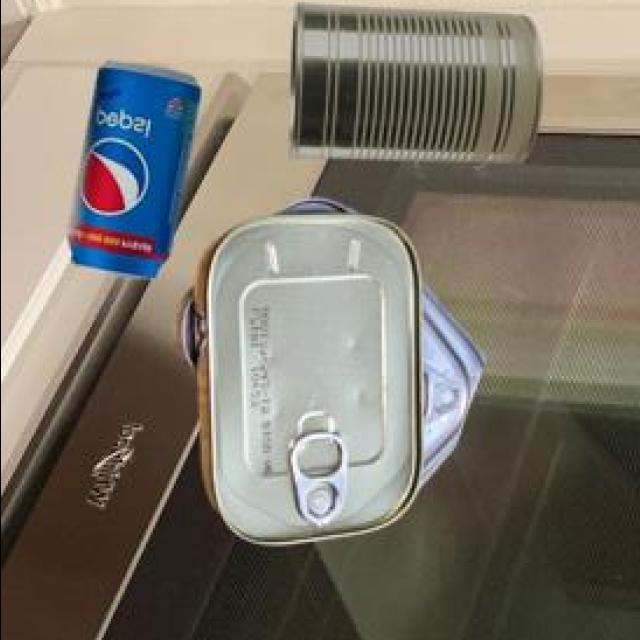logam: (176, 202, 487, 548), (293, 8, 545, 167), (74, 64, 202, 281)
